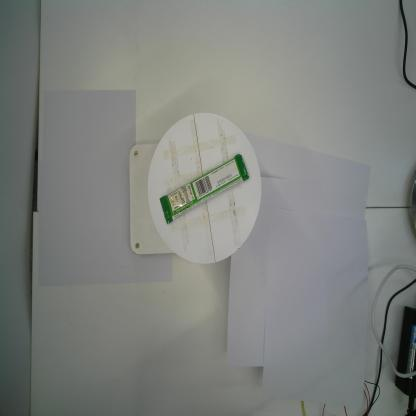Chocolate: (159, 153, 250, 225)
